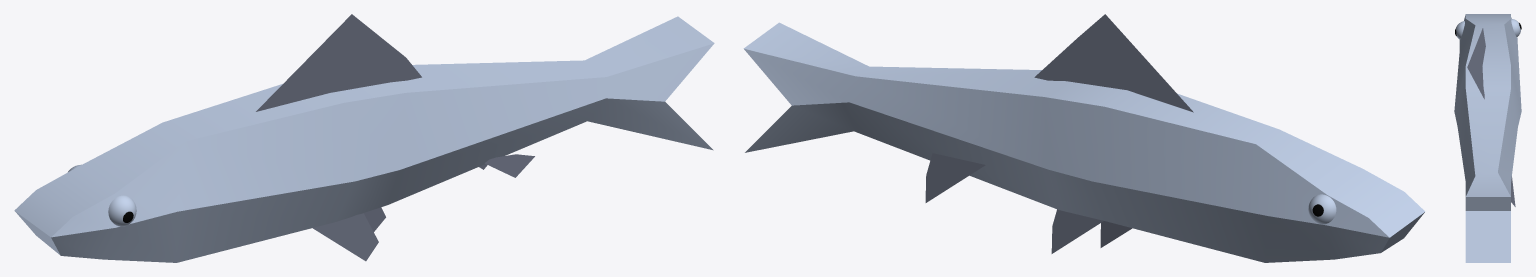
File: FishF.fbx
The picture shows the model from 3 angles, left to right: view 1: azimuth 30°, elevation 25°; view 2: azimuth 150°, elevation 25°; view 3: azimuth 270°, elevation 25°; orthographic projection. The views are drawn at different scales.
Visible parts, largest first — view 1: Fish; view 2: Fish; view 3: Fish.
Boxes of the visible parts, x1,y1,x2,y2 form: Fish: [14, 14, 714, 262]; Fish: [743, 14, 1425, 262]; Fish: [1454, 14, 1521, 262].
Size of the model in its own units: 0.1721 by 0.0611 by 0.0244.
